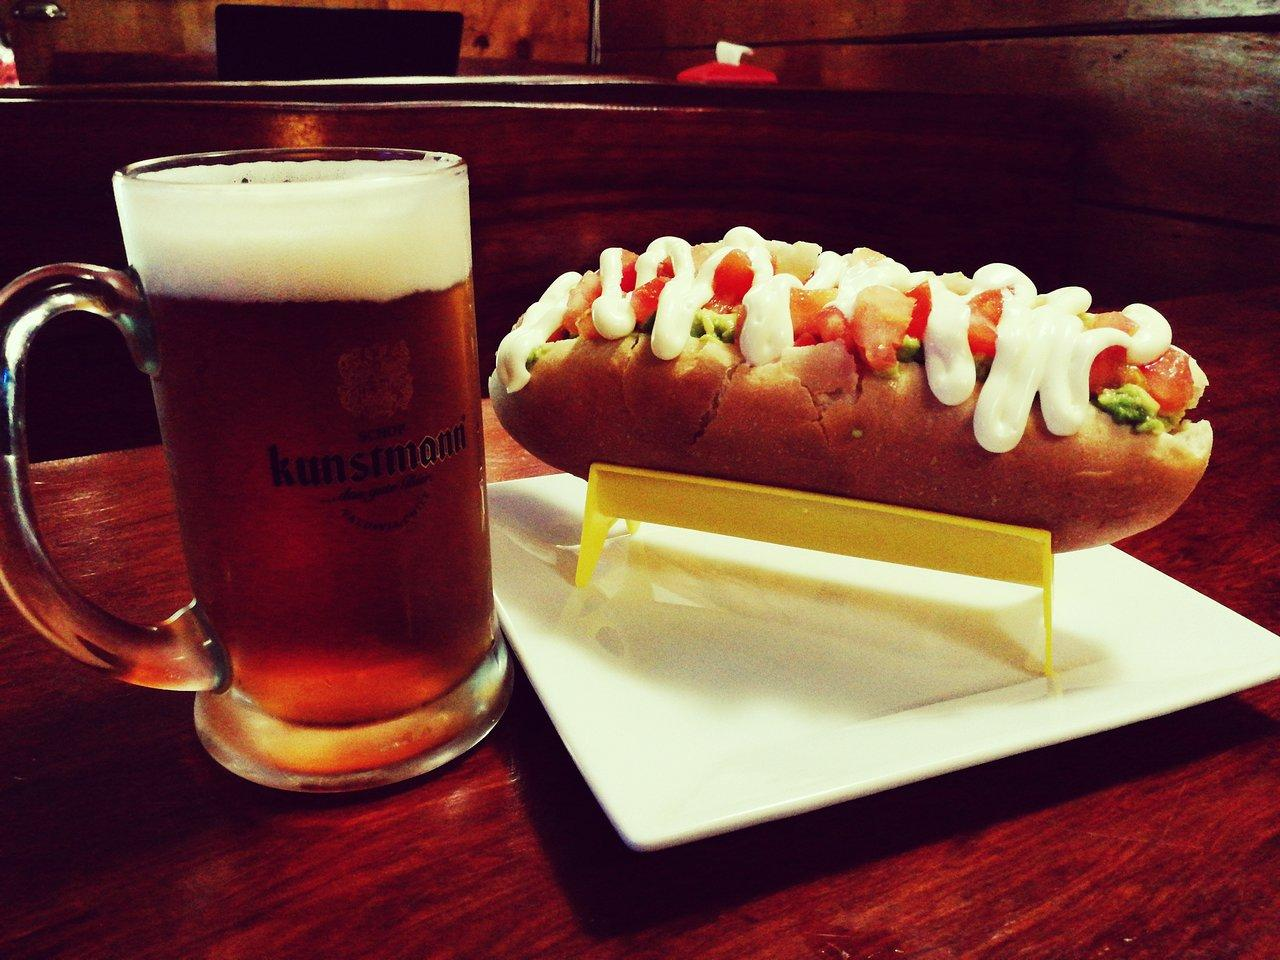Completos: (497, 207, 1218, 574)
